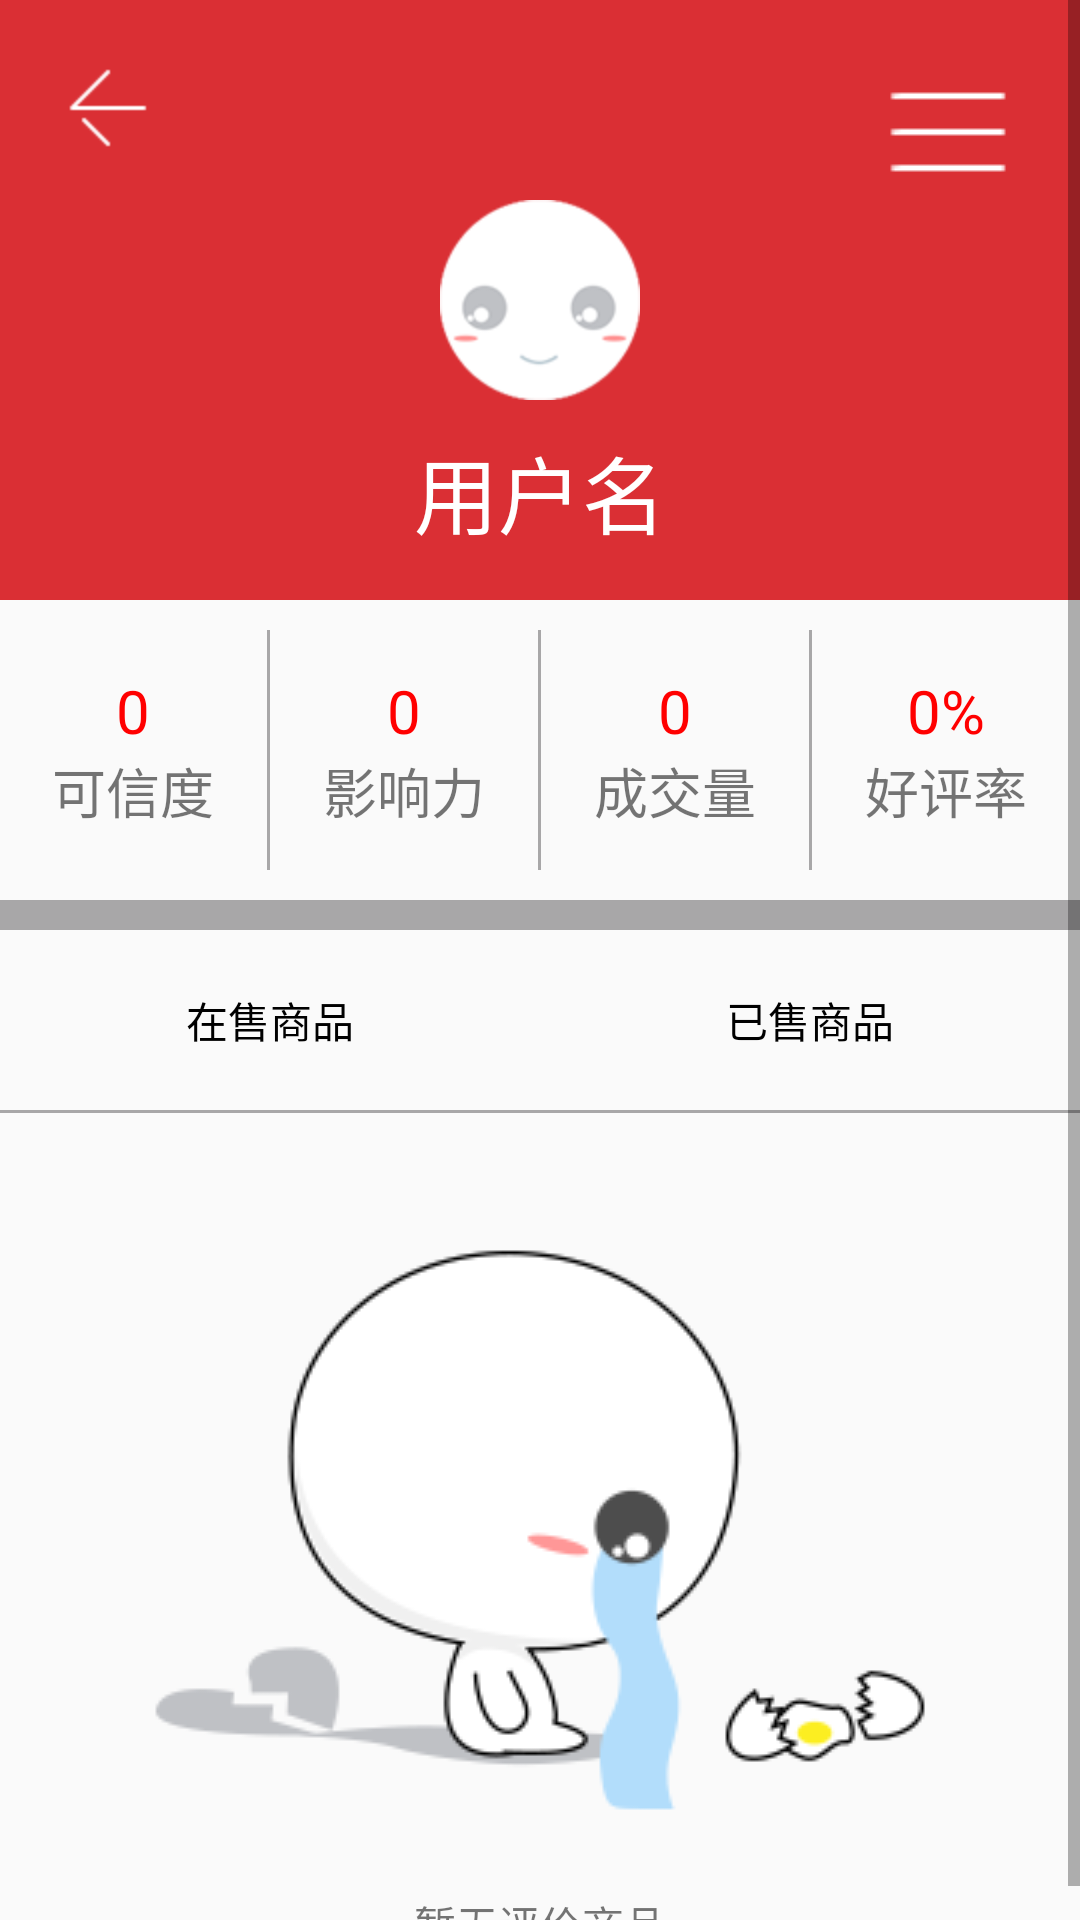

Icons on this 1080×1920 Android screen, each with its box as bbox(x1, y1, x2, y2):
avatr: bbox(440, 200, 640, 400)
back off: bbox(69, 69, 147, 147)
goods menu: bbox(890, 92, 1006, 172)
